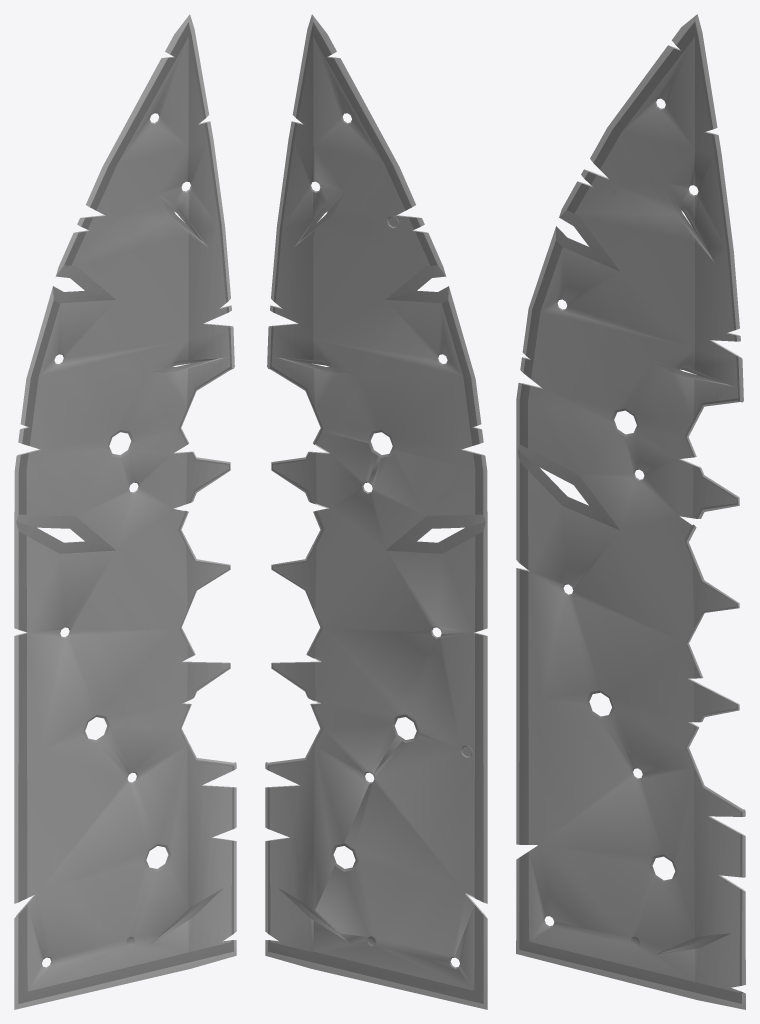
Rendered from stone_blade_bubbles_062.glb.
The picture shows the model from 3 angles, left to right: view 1: azimuth 30°, elevation 25°; view 2: azimuth 150°, elevation 25°; view 3: azimuth 330°, elevation 25°; orthographic projection. The views are drawn at different scales.
Visible parts, largest first — view 1: stone_blade_bubbles.062; view 2: stone_blade_bubbles.062; view 3: stone_blade_bubbles.062.
Part boxes in pixels (x1=…): stone_blade_bubbles.062: x1=14, y1=14, x2=236, y2=1009; stone_blade_bubbles.062: x1=265, y1=14, x2=487, y2=1009; stone_blade_bubbles.062: x1=516, y1=14, x2=745, y2=1009.
Bounding box in the file's own units: 2.79 × 11.43 × 0.0204.
1 material, 1 textured.
